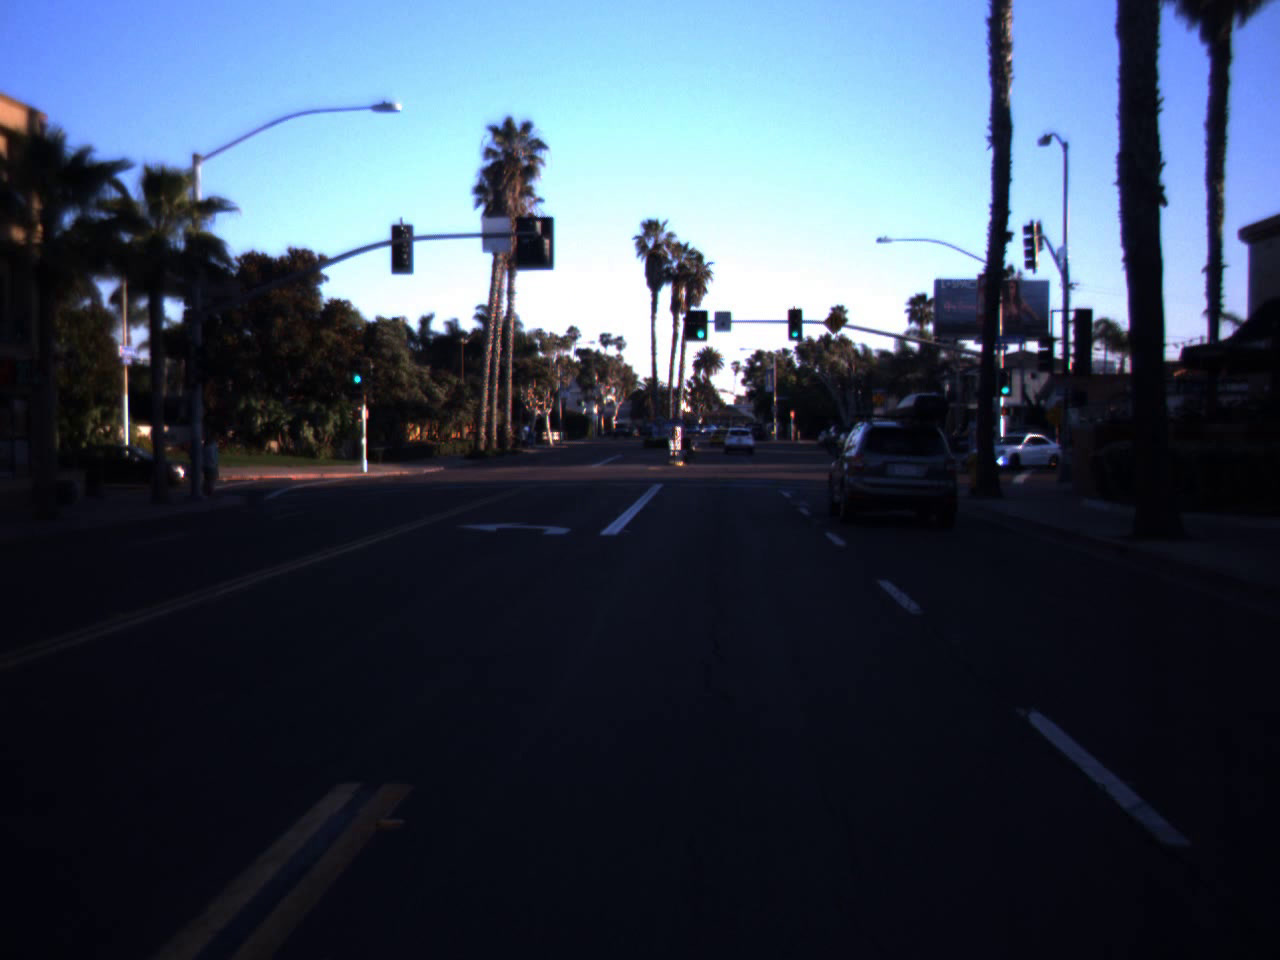go: (692, 311, 710, 341), (350, 355, 365, 385), (996, 370, 1014, 395), (789, 318, 801, 338)
